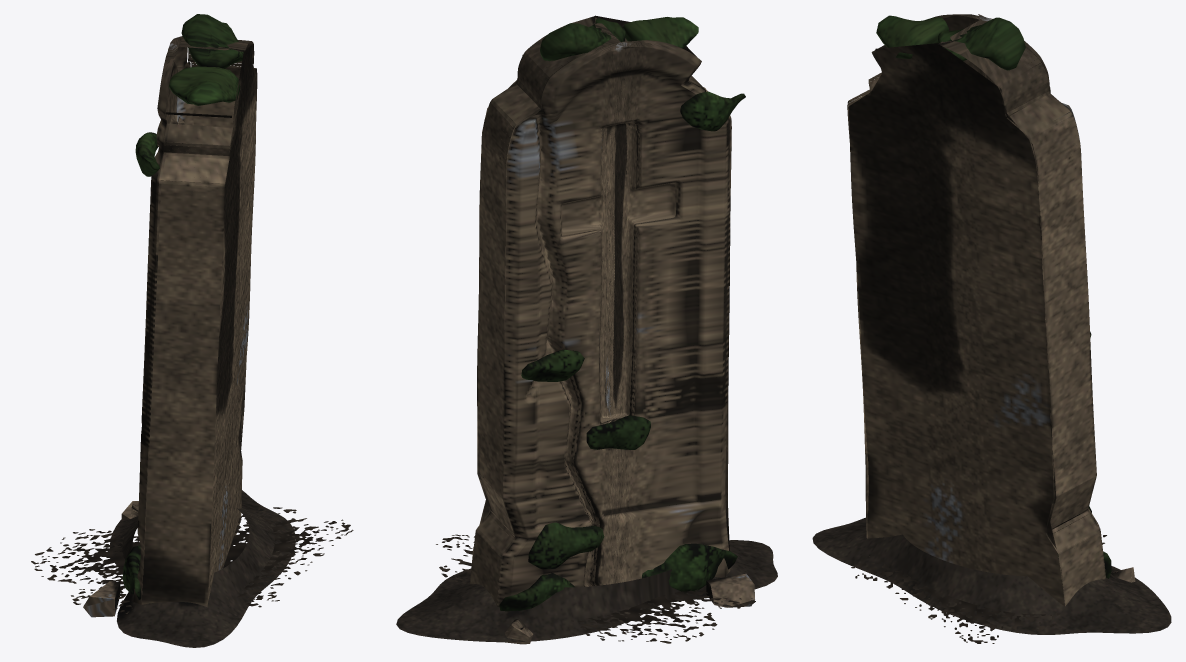
Rendered from tombstone.glb.
The picture shows the model from 3 angles, left to right: view 1: azimuth 30°, elevation 25°; view 2: azimuth 150°, elevation 25°; view 3: azimuth 270°, elevation 25°; orthographic projection. The views are drawn at different scales.
Visible parts, largest first — view 1: tombstone; view 2: tombstone; view 3: tombstone.
Boxes of the visible parts, left/top/right/bottom form: tombstone: left=31, top=14, right=353, bottom=647; tombstone: left=396, top=15, right=777, bottom=644; tombstone: left=812, top=14, right=1171, bottom=643.
Bounding box in the file's own units: 0.858 × 1.38 × 0.7911.
2 materials, 2 textured.
